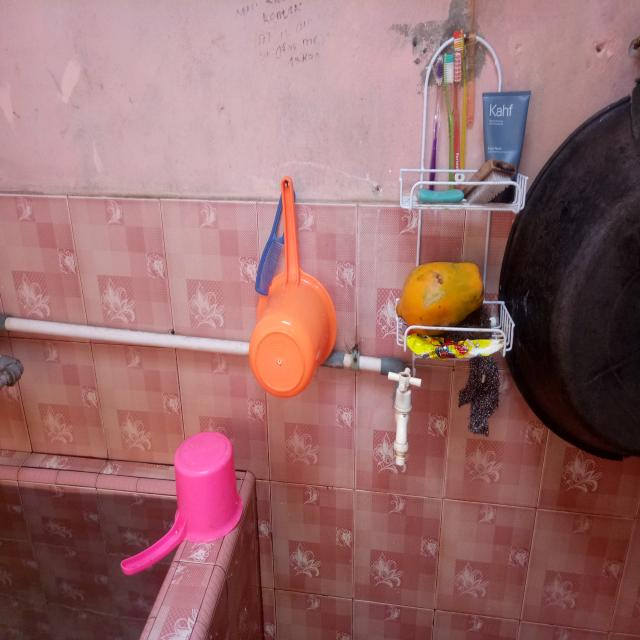Pepaya rippen: (399, 258, 486, 330)
